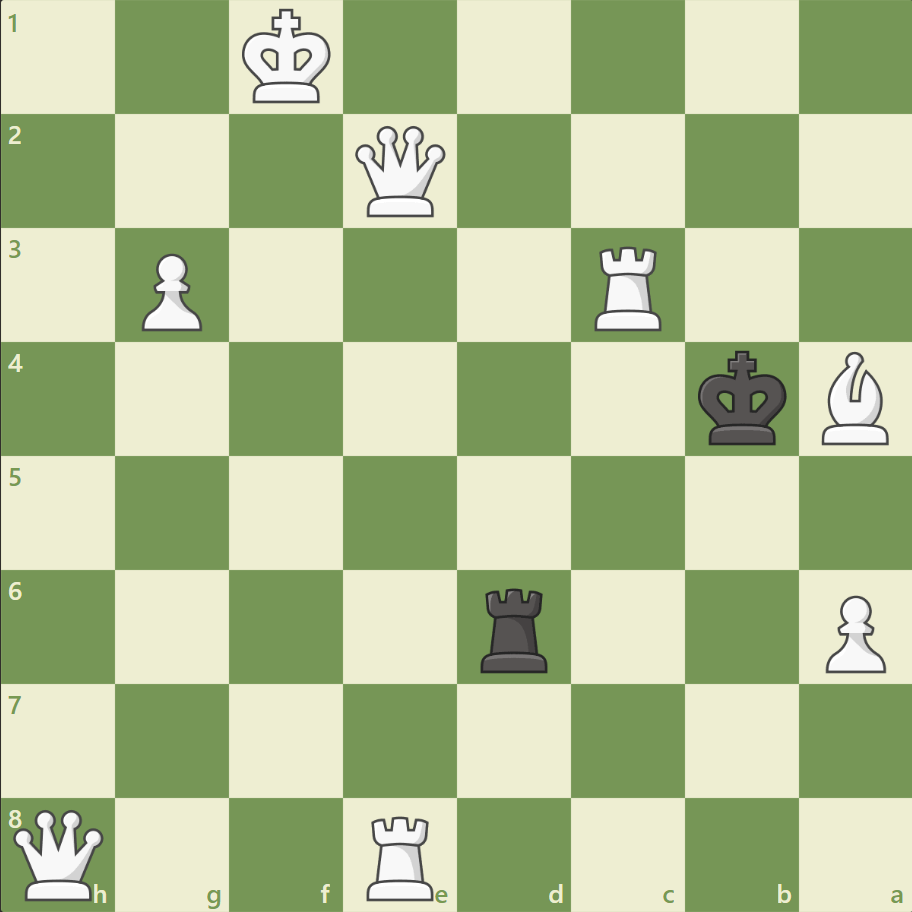B: (812, 347, 896, 449)
K: (238, 4, 338, 112)
P: (133, 246, 208, 337), (815, 586, 889, 677)
Q: (351, 122, 450, 222), (10, 804, 109, 903)
R: (587, 239, 670, 336), (360, 806, 442, 904)
k: (692, 344, 792, 452)
r: (473, 579, 556, 676)
